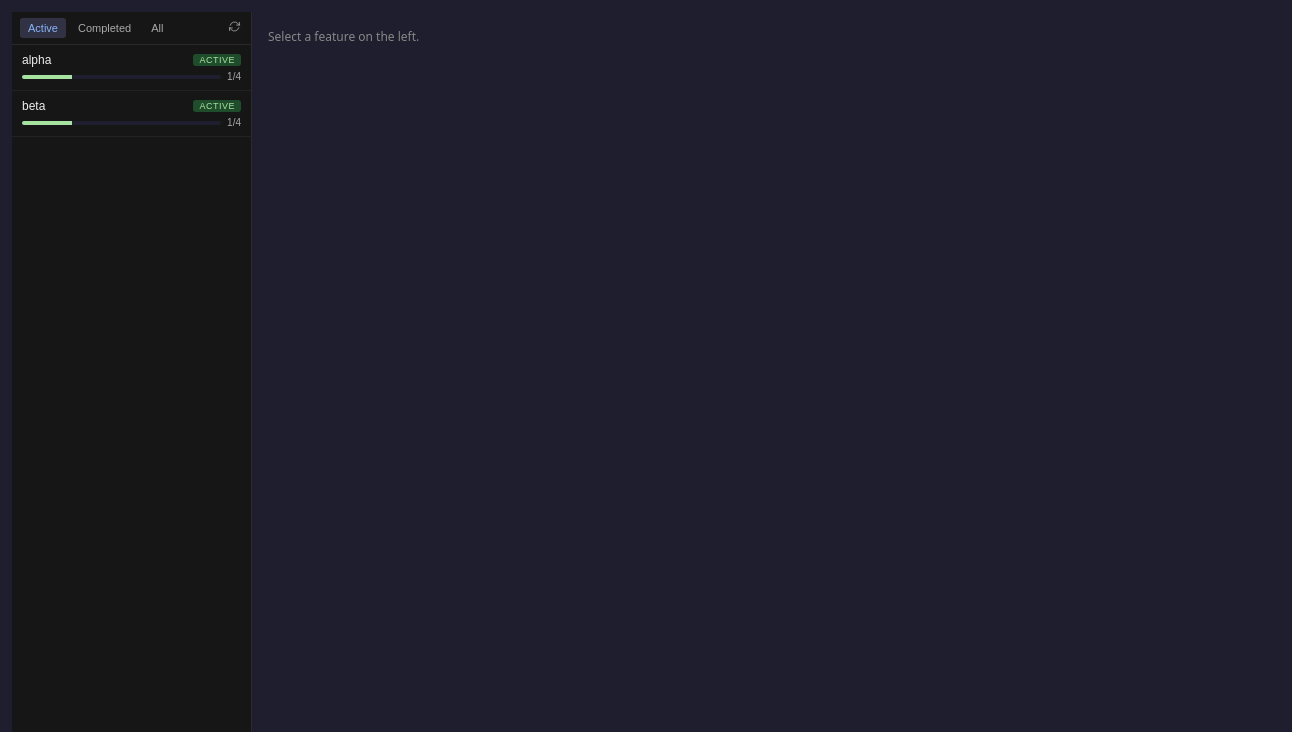
Test: PlanTile shell › clicking a feature swaps the detail pane
Click the button with test id "feature-row-beta" at (132, 114), box [12,91,251,137]
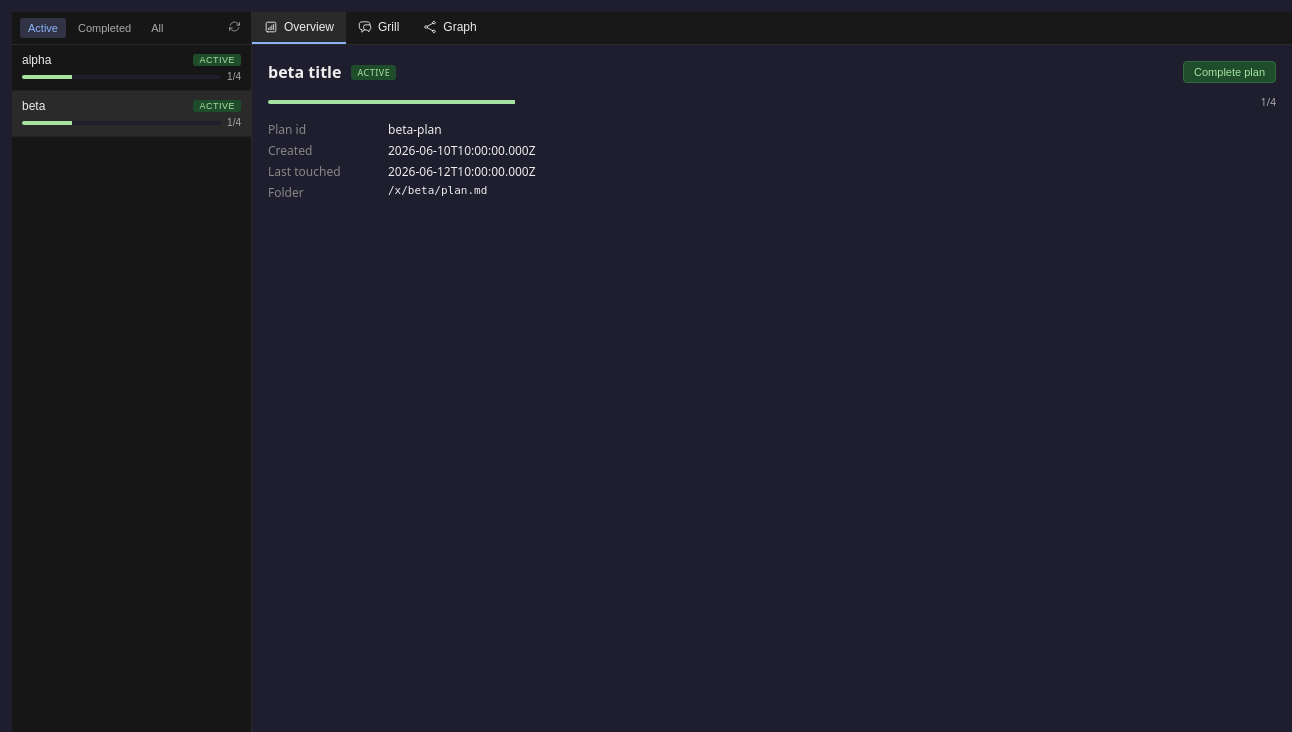
Expected: the heading "beta title" is shown, [268,61,342,83]
